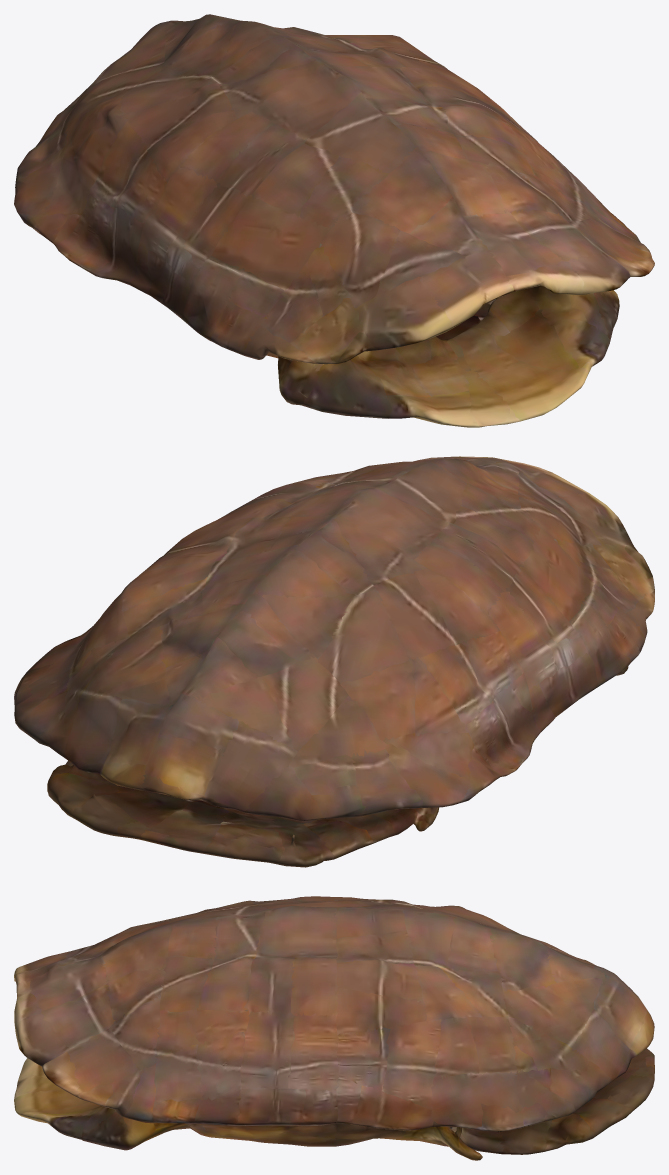
File: shell.glb
The picture shows the model from 3 angles, top to bottom: view 1: azimuth 30°, elevation 25°; view 2: azimuth 150°, elevation 25°; view 3: azimuth 270°, elevation 25°; orthographic projection. The views are drawn at different scales.
Parts seen in each view (by area): view 1: Mesh_0; view 2: Mesh_0; view 3: Mesh_0.
Part boxes in pixels (x1,y1,x2,y2): Mesh_0: [14, 14, 654, 427]; Mesh_0: [14, 456, 654, 867]; Mesh_0: [14, 896, 654, 1160].
Bounding box in the file's own units: 1.37 × 0.6734 × 2.
Materials: 1 (1 with a texture image).
